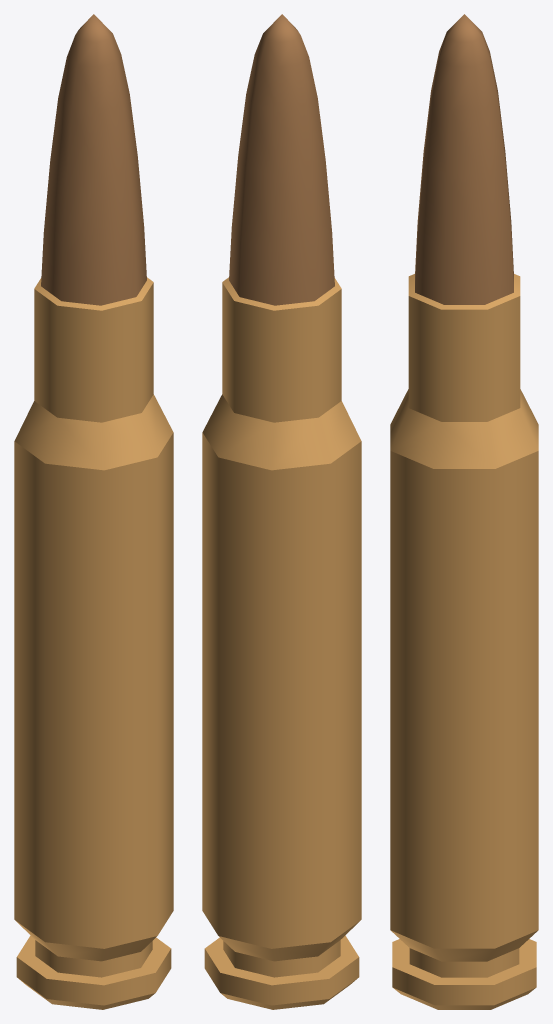
File: SM_Bullet_01.fbx
The picture shows the model from 3 angles, left to right: view 1: azimuth 30°, elevation 25°; view 2: azimuth 150°, elevation 25°; view 3: azimuth 270°, elevation 25°; orthographic projection.
Parts seen in each view (by area): view 1: SM_Bullet_01; view 2: SM_Bullet_01; view 3: SM_Bullet_01.
Part boxes in pixels (x1,y1,x2,y2): SM_Bullet_01: (14,14,173,1009); SM_Bullet_01: (202,14,361,1009); SM_Bullet_01: (390,14,538,1009).
Size of the model in its own units: 4.49 by 32.28 by 4.49.
Materials: 1 (1 with a texture image).
